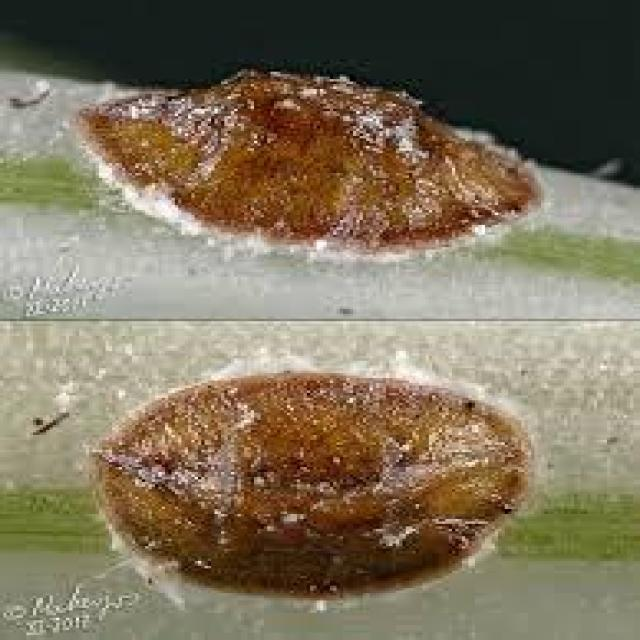Black Scale: (92, 361, 531, 608), (79, 69, 541, 250)
